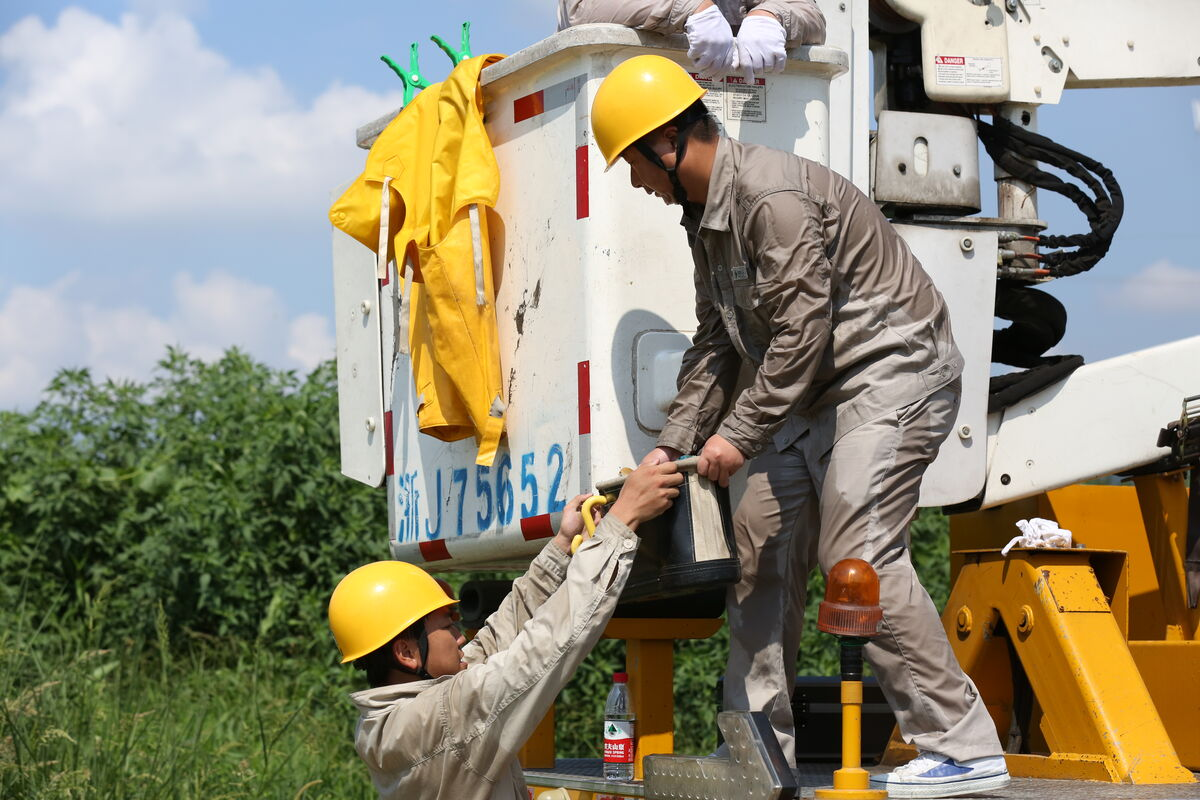safetyhat: (569, 49, 1032, 687), (280, 508, 642, 800)
